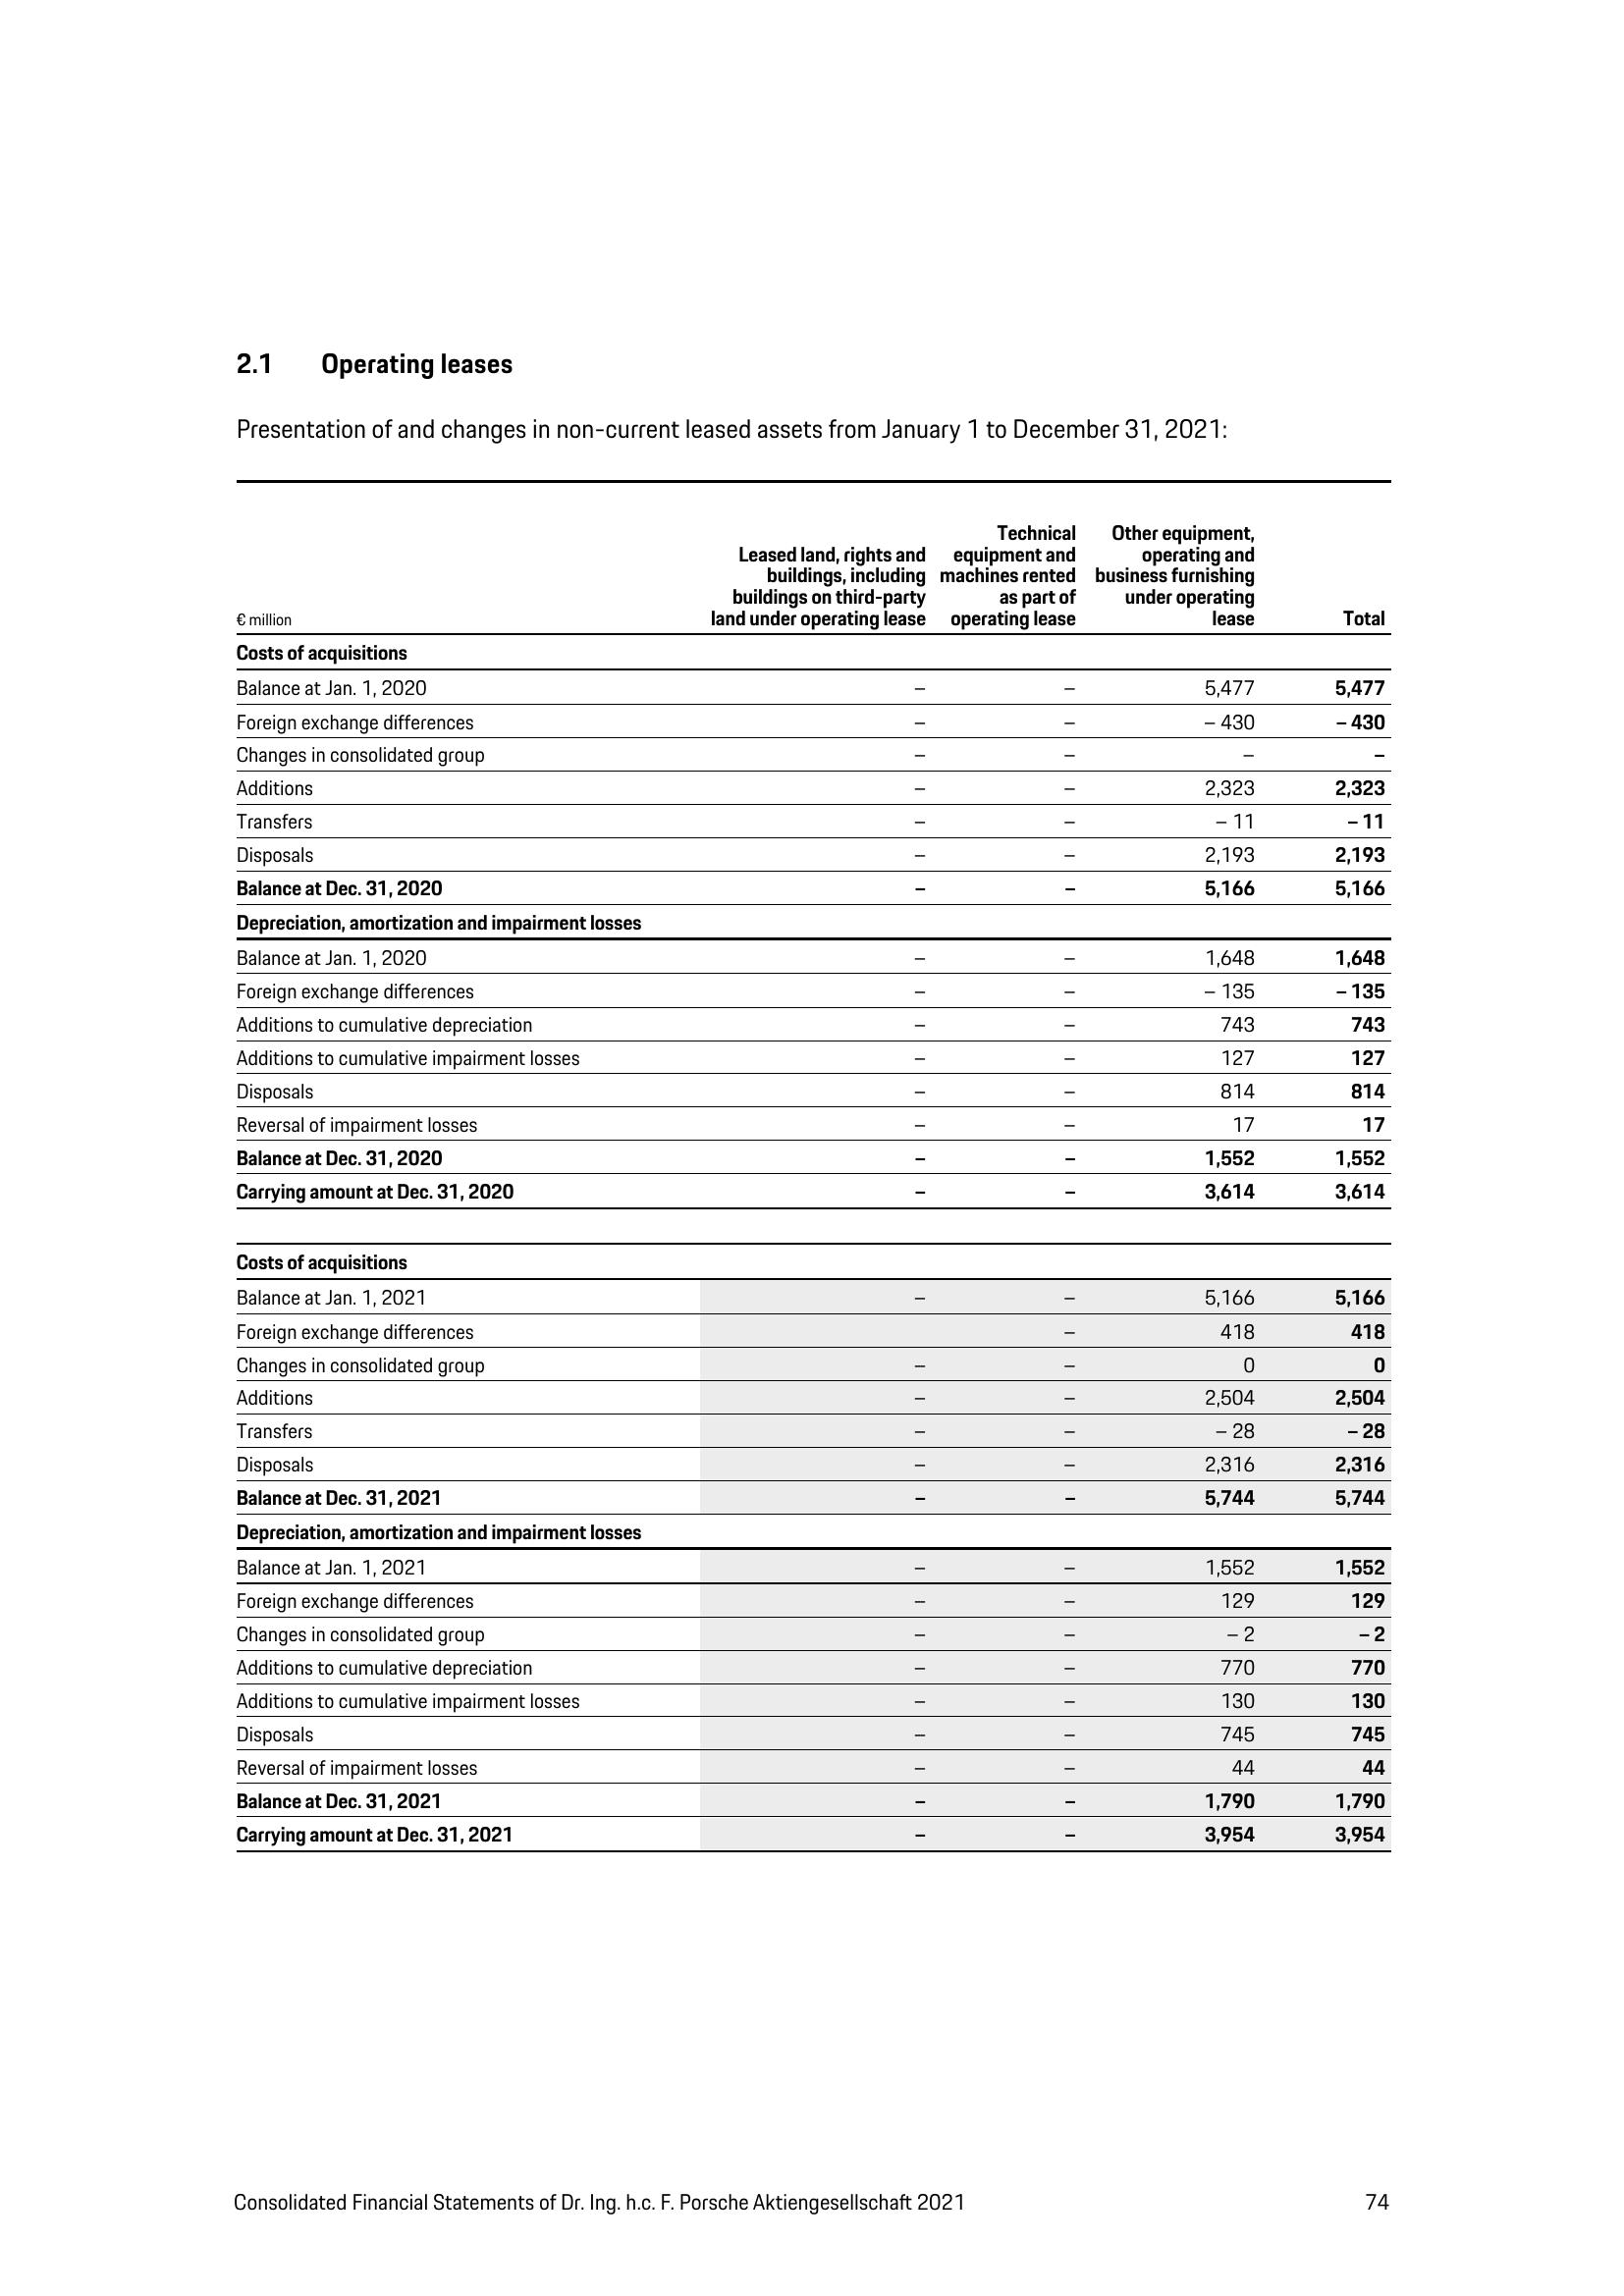Footer: (0, 2157, 1624, 2296)
Header: (0, 0, 1624, 237)
Table: (167, 480, 1425, 1934)
